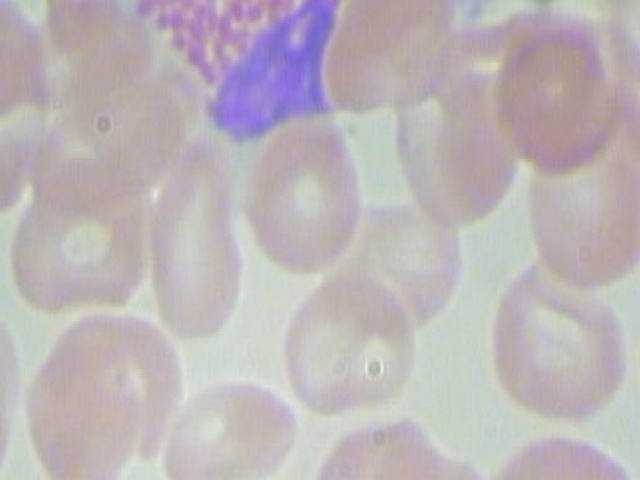Platelets: (448, 0, 511, 21)
RBC: (485, 256, 633, 423), (489, 19, 637, 186), (275, 258, 424, 420), (147, 133, 258, 346), (233, 111, 368, 278), (5, 181, 161, 315), (13, 335, 149, 480), (163, 367, 301, 480), (350, 193, 461, 323), (295, 408, 416, 480), (0, 0, 60, 132), (0, 272, 19, 480)
WBC: (83, 0, 359, 150)
